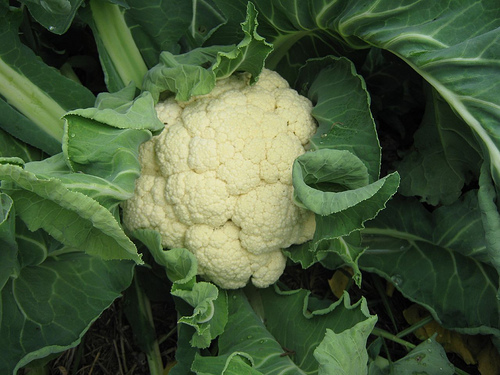cauliflower: (112, 60, 362, 295)
